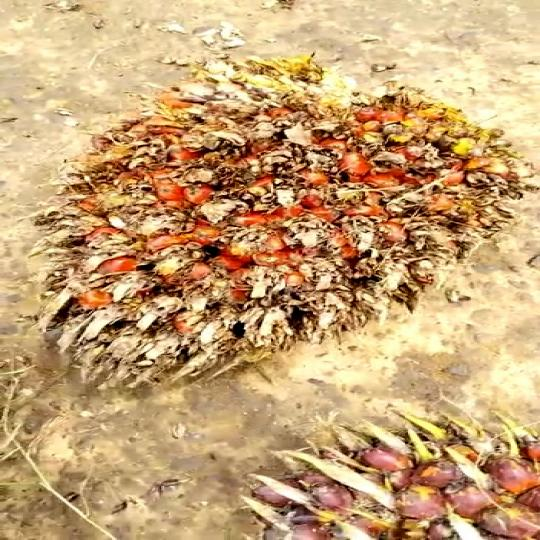terlalu masak: (0, 46, 540, 383)
